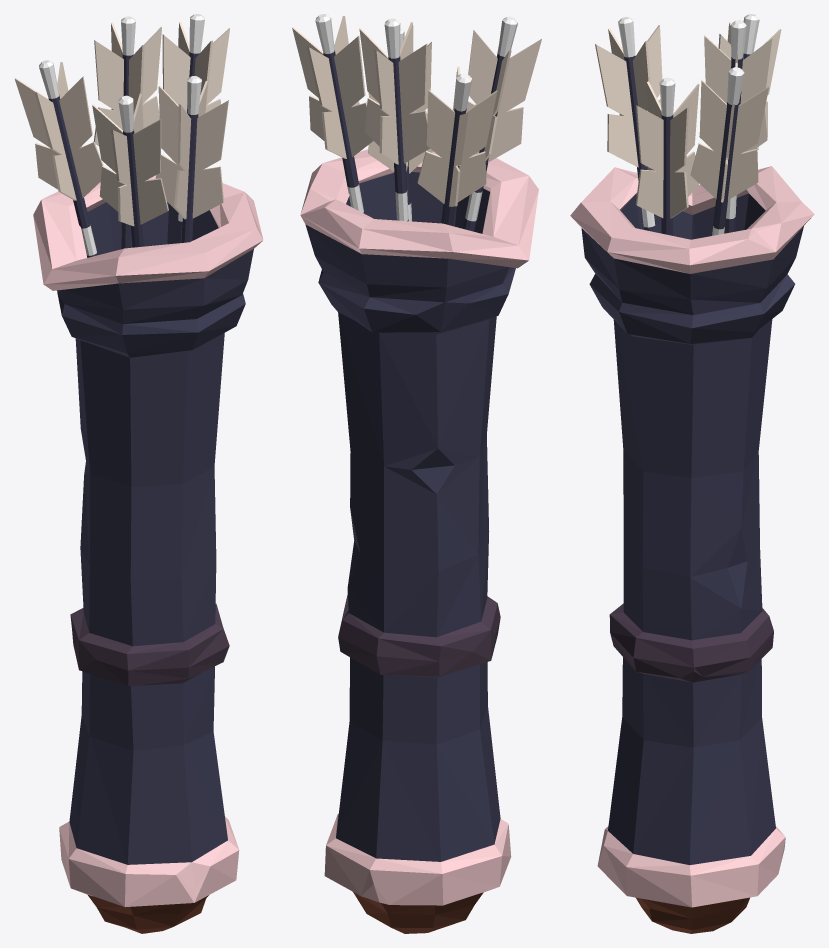
File: SFFA_Arrow_Bag_001.fbx
3 renders of one model, left to right at view 1: azimuth 30°, elevation 25°; view 2: azimuth 150°, elevation 25°; view 3: azimuth 270°, elevation 25°, orthographic. The views are drawn at different scales.
Visible parts, largest first — view 1: SFFA_Arrow_Bag_001; view 2: SFFA_Arrow_Bag_001; view 3: SFFA_Arrow_Bag_001.
Part boxes in pixels (box(x1,y1,x2,y2)): SFFA_Arrow_Bag_001: box(14, 14, 263, 933); SFFA_Arrow_Bag_001: box(292, 14, 541, 933); SFFA_Arrow_Bag_001: box(570, 14, 814, 933).
Bounding box in the file's own units: 20.18 × 81.55 × 20.04.
